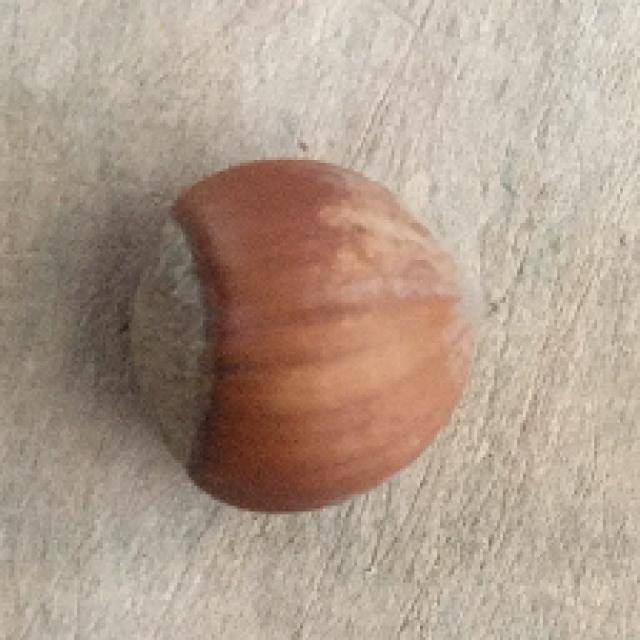qualityHazelnut: (112, 143, 482, 529)
